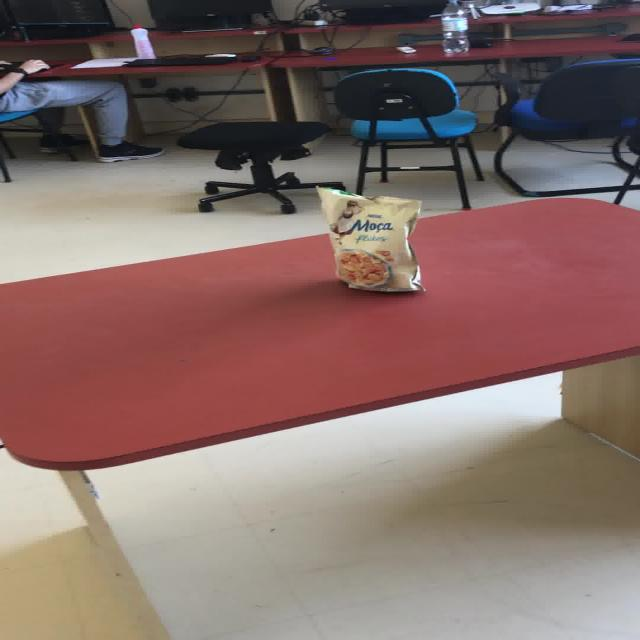corn flakes: (314, 185, 422, 291), (337, 249, 391, 287)
